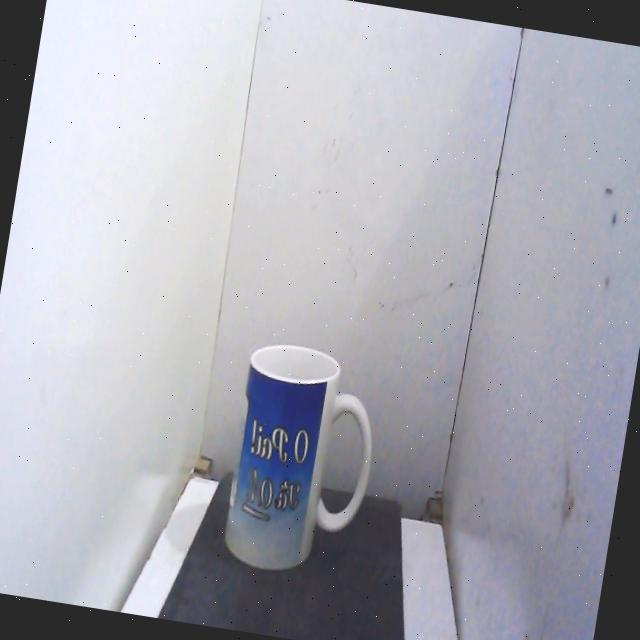vidro: (200, 327, 393, 596)
